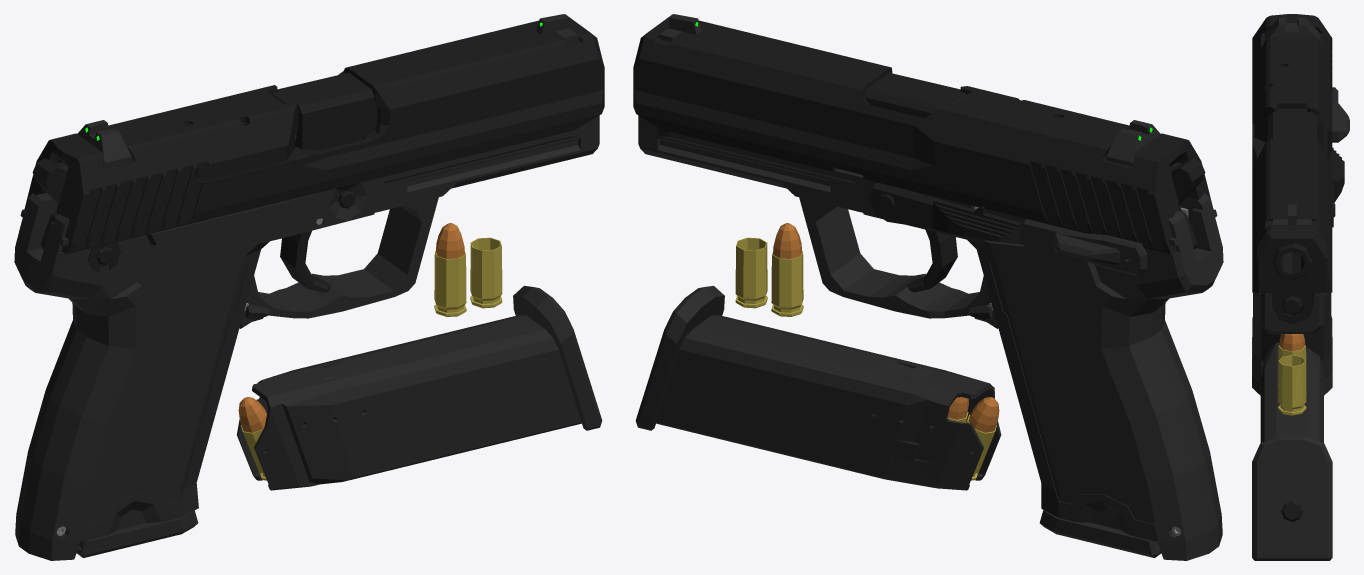
3 renders of one model, left to right at view 1: azimuth 30°, elevation 25°; view 2: azimuth 150°, elevation 25°; view 3: azimuth 270°, elevation 25°, orthographic. The views are drawn at different scales.
Parts seen in each view (by area): view 1: usp9 frame_6, usp9 slide_5, usp9 15rnd mag_3, usp9 barrel_4, 919 case_1, usp9 15rnd empty_2, Object_4, usp9 trigga_10, usp9 hammer_9, Object_5; view 2: usp9 frame_6, usp9 slide_5, usp9 15rnd mag_3, usp9 slide catch_8, usp9 safety_7, usp9 barrel_4, usp9 15rnd empty_2, 919 case_1, Object_4, usp9 trigga_10, usp9 hammer_9, Object_5; view 3: usp9 slide_5, usp9 15rnd mag_3, usp9 frame_6, usp9 barrel_4, 919 case_1, usp9 safety_7, usp9 slide catch_8, Object_5, usp9 15rnd empty_2, Object_4.
Boxes of the visible parts, box(x1,y1,x2,y2) form: usp9 frame_6: box(14, 115, 599, 560); usp9 slide_5: box(24, 14, 604, 253); usp9 15rnd mag_3: box(237, 285, 602, 490); usp9 barrel_4: box(271, 72, 377, 150); 919 case_1: box(470, 237, 502, 308); usp9 15rnd empty_2: box(76, 510, 198, 557); Object_4: box(434, 251, 466, 316); usp9 trigga_10: box(280, 231, 330, 292); usp9 hammer_9: box(32, 158, 68, 249); Object_5: box(436, 223, 464, 258); usp9 frame_6: box(638, 115, 1223, 560); usp9 slide_5: box(633, 14, 1213, 253); usp9 15rnd mag_3: box(635, 285, 1001, 490); usp9 slide catch_8: box(868, 182, 1021, 242); usp9 safety_7: box(1053, 231, 1147, 276); usp9 barrel_4: box(864, 72, 966, 118); usp9 15rnd empty_2: box(1039, 510, 1161, 557); 919 case_1: box(735, 237, 767, 308); Object_4: box(771, 251, 803, 316); usp9 trigga_10: box(907, 229, 957, 292); usp9 hammer_9: box(1169, 158, 1205, 249); Object_5: box(773, 223, 801, 258); usp9 slide_5: box(1252, 14, 1332, 324); usp9 15rnd mag_3: box(1252, 342, 1332, 560); usp9 frame_6: box(1252, 292, 1332, 382); usp9 barrel_4: box(1267, 109, 1316, 280); 919 case_1: box(1278, 355, 1306, 415); usp9 safety_7: box(1332, 87, 1349, 142); usp9 slide catch_8: box(1332, 147, 1344, 227); Object_5: box(1279, 334, 1304, 351); usp9 15rnd empty_2: box(1252, 337, 1332, 395); Object_4: box(1278, 345, 1306, 393).
Bounding box in the file's own units: 1.94 × 1.34 × 0.3425.
